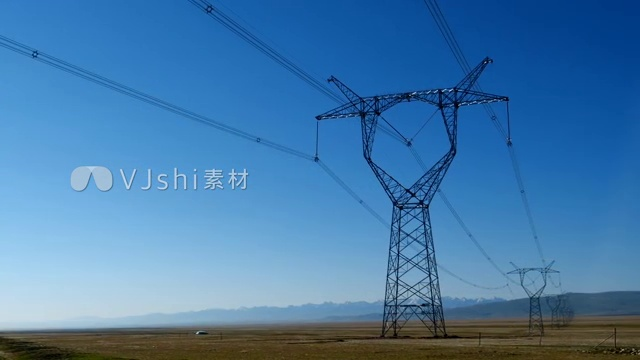tower_body: (310, 52, 516, 343), (505, 254, 565, 339)
tower_foot: (381, 276, 449, 338), (527, 312, 544, 336)
tower_head: (313, 56, 513, 210), (507, 259, 561, 299)
